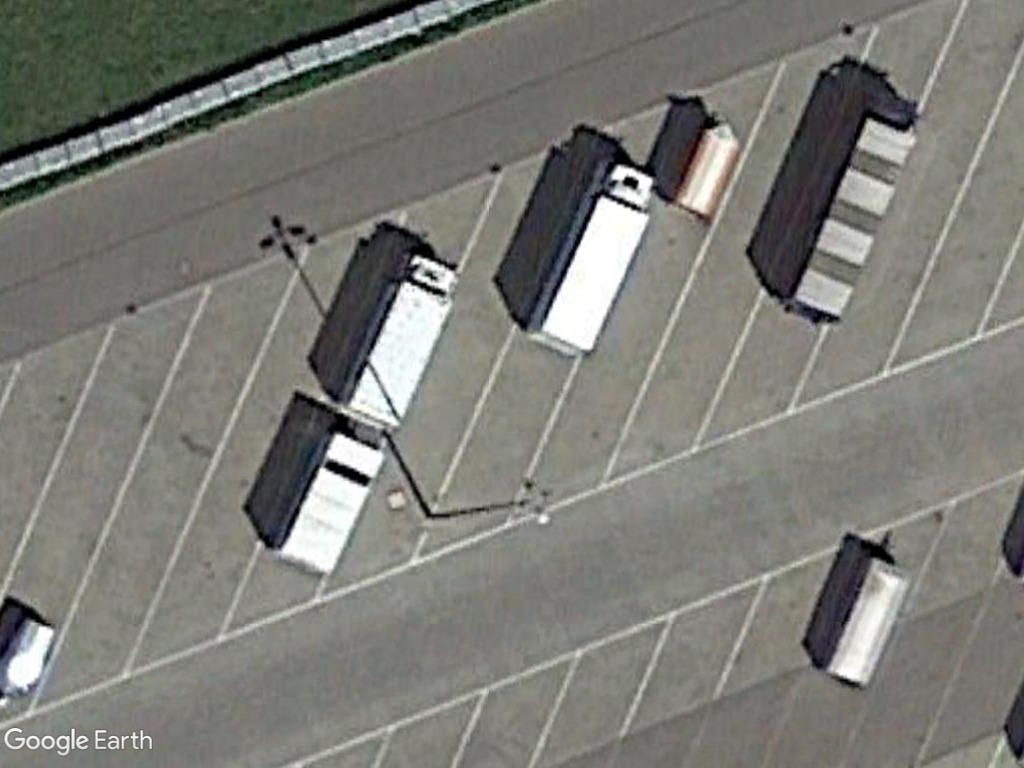longvehicle: (272, 426, 401, 582)
truck: (525, 157, 658, 364), (341, 243, 460, 432)
